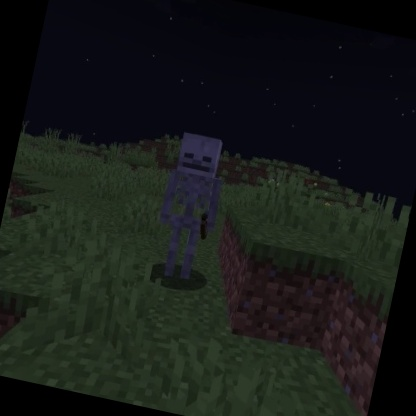skeleton: (143, 125, 236, 288)
